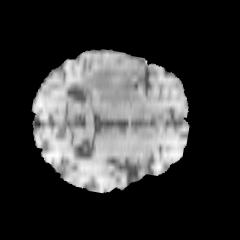glioma: (77, 57, 145, 106)
